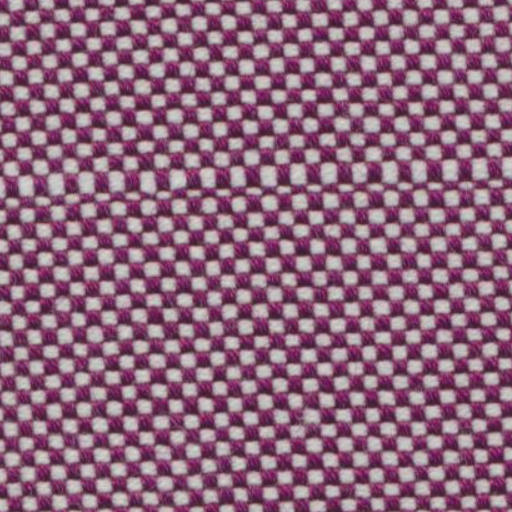TuoSha: (16, 148, 500, 235)
